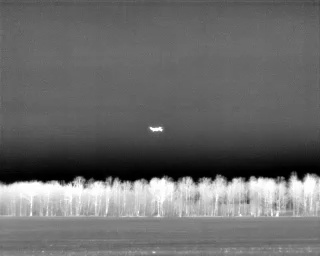DRONE: (145, 121, 167, 137)
